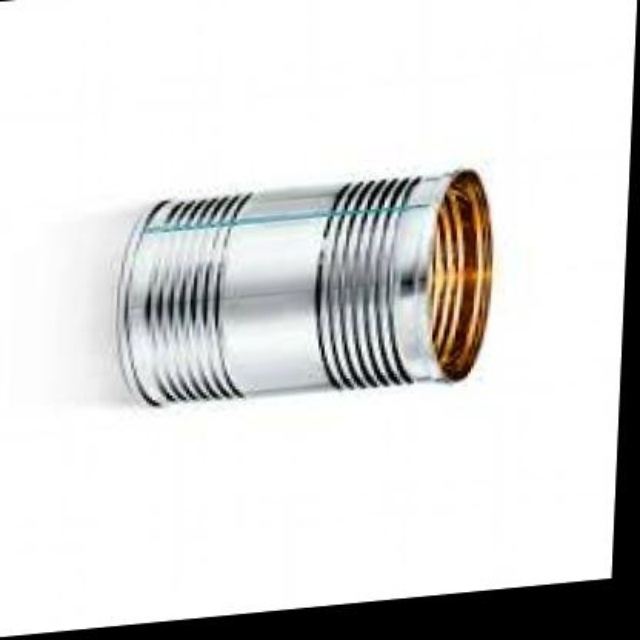trash: (117, 171, 491, 403)
